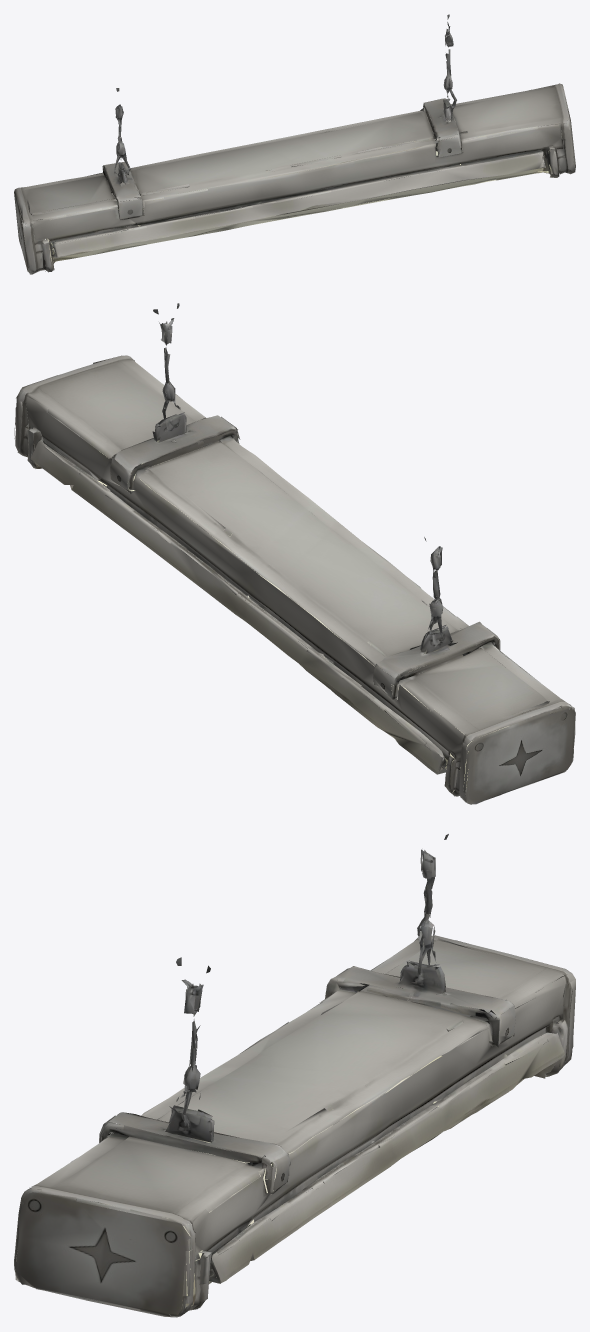
File: lamp_lo.glb
3 renders of one model, top to bottom at view 1: azimuth 30°, elevation 25°; view 2: azimuth 150°, elevation 25°; view 3: azimuth 270°, elevation 25°, orthographic. The views are drawn at different scales.
Parts seen in each view (by area): view 1: tripo_node_3b3c3c5d-c06f-466b-8b93-09e54f772545; view 2: tripo_node_3b3c3c5d-c06f-466b-8b93-09e54f772545; view 3: tripo_node_3b3c3c5d-c06f-466b-8b93-09e54f772545.
Part boxes in pixels (left/top/right/bottom): tripo_node_3b3c3c5d-c06f-466b-8b93-09e54f772545: left=14, top=14, right=575, bottom=274; tripo_node_3b3c3c5d-c06f-466b-8b93-09e54f772545: left=14, top=303, right=575, bottom=804; tripo_node_3b3c3c5d-c06f-466b-8b93-09e54f772545: left=14, top=834, right=575, bottom=1317.
Size of the model in its own units: 0.9981 by 0.4326 by 0.5575.
1 material, 1 textured.
